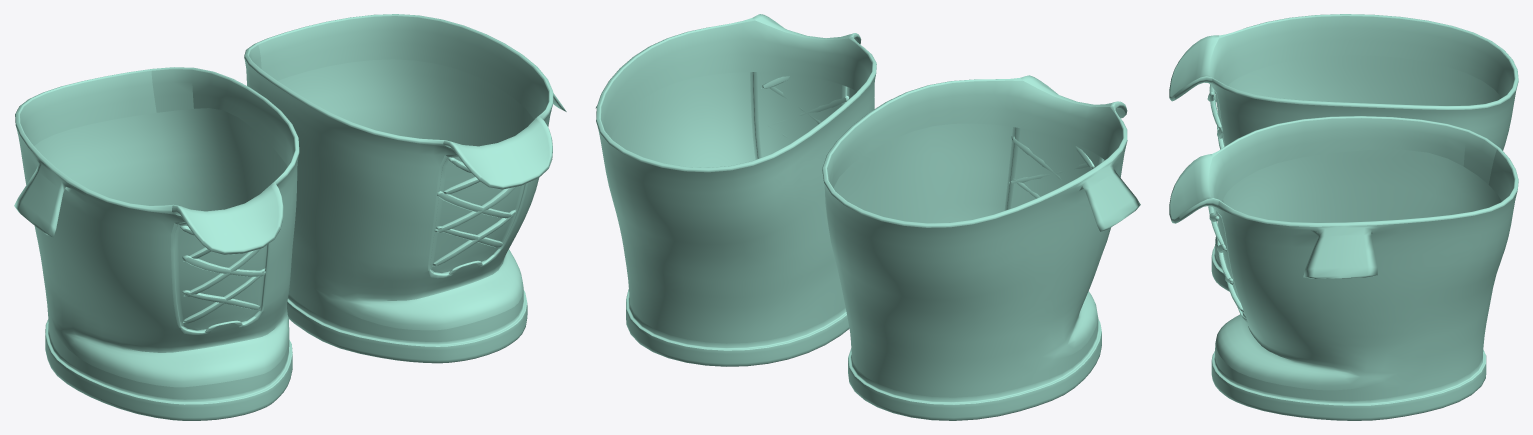
Rendered from Boots04_sidelace (1).fbx.
The picture shows the model from 3 angles, left to right: view 1: azimuth 30°, elevation 25°; view 2: azimuth 150°, elevation 25°; view 3: azimuth 270°, elevation 25°; orthographic projection. The views are drawn at different scales.
Visible parts, largest first — view 1: Boots_sidelace_front; view 2: Boots_sidelace_front; view 3: Boots_sidelace_front.
Boxes of the visible parts, x1,y1,x2,y2 form: Boots_sidelace_front: (14, 14, 566, 420); Boots_sidelace_front: (595, 14, 1140, 420); Boots_sidelace_front: (1169, 14, 1518, 420).
Bounding box in the file's own units: 113 × 49.14 × 72.1.
